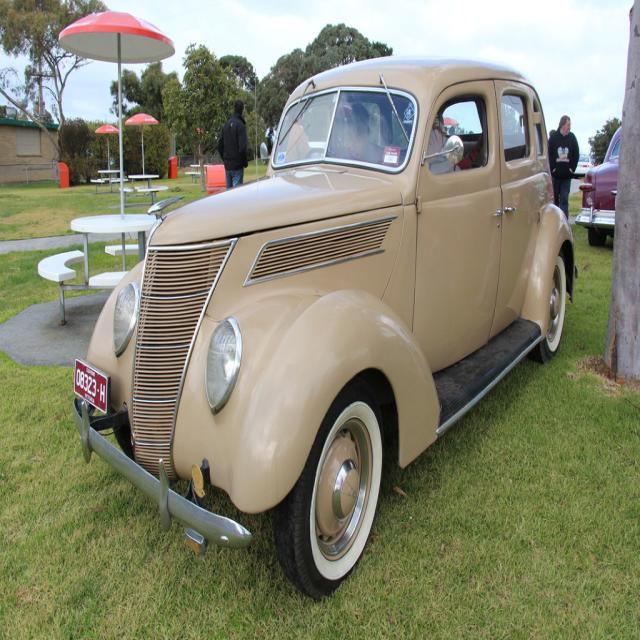car: (70, 56, 576, 600), (578, 119, 622, 244), (575, 147, 593, 173)
